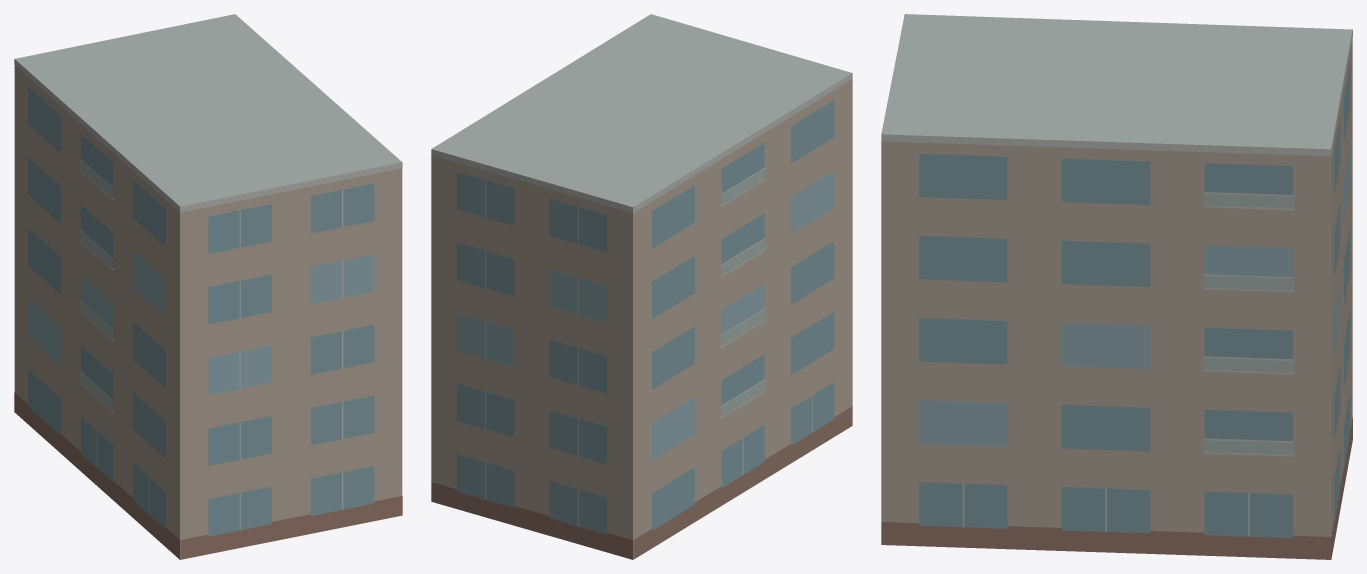
File: survey-upis-32750268.glb
The picture shows the model from 3 angles, left to right: view 1: azimuth 30°, elevation 25°; view 2: azimuth 150°, elevation 25°; view 3: azimuth 270°, elevation 25°; orthographic projection. The views are drawn at different scales.
Parts seen in each view (by area): view 1: survey-upis-32750268.tmp; view 2: survey-upis-32750268.tmp; view 3: survey-upis-32750268.tmp.
Boxes of the visible parts, left/top/right/bottom form: survey-upis-32750268.tmp: left=14, top=14, right=402, bottom=559; survey-upis-32750268.tmp: left=431, top=14, right=852, bottom=559; survey-upis-32750268.tmp: left=881, top=14, right=1352, bottom=559.
Bounding box in the file's own units: 10.12 × 14.3 × 14.9.
